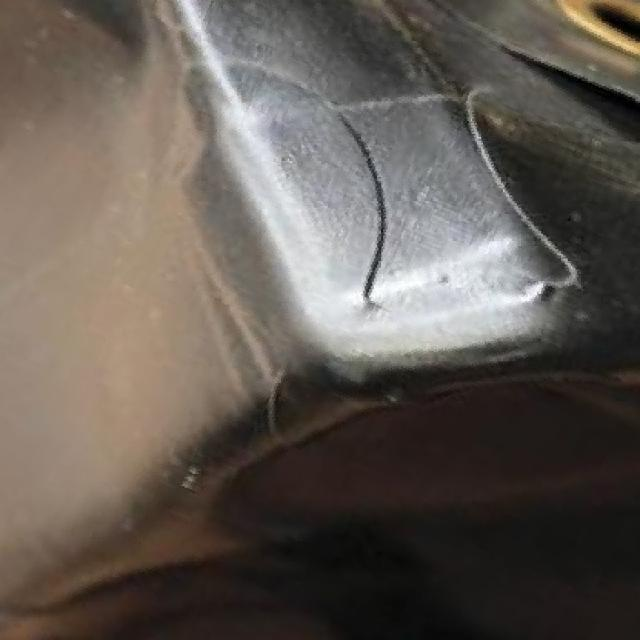crack: (352, 134, 421, 297)
